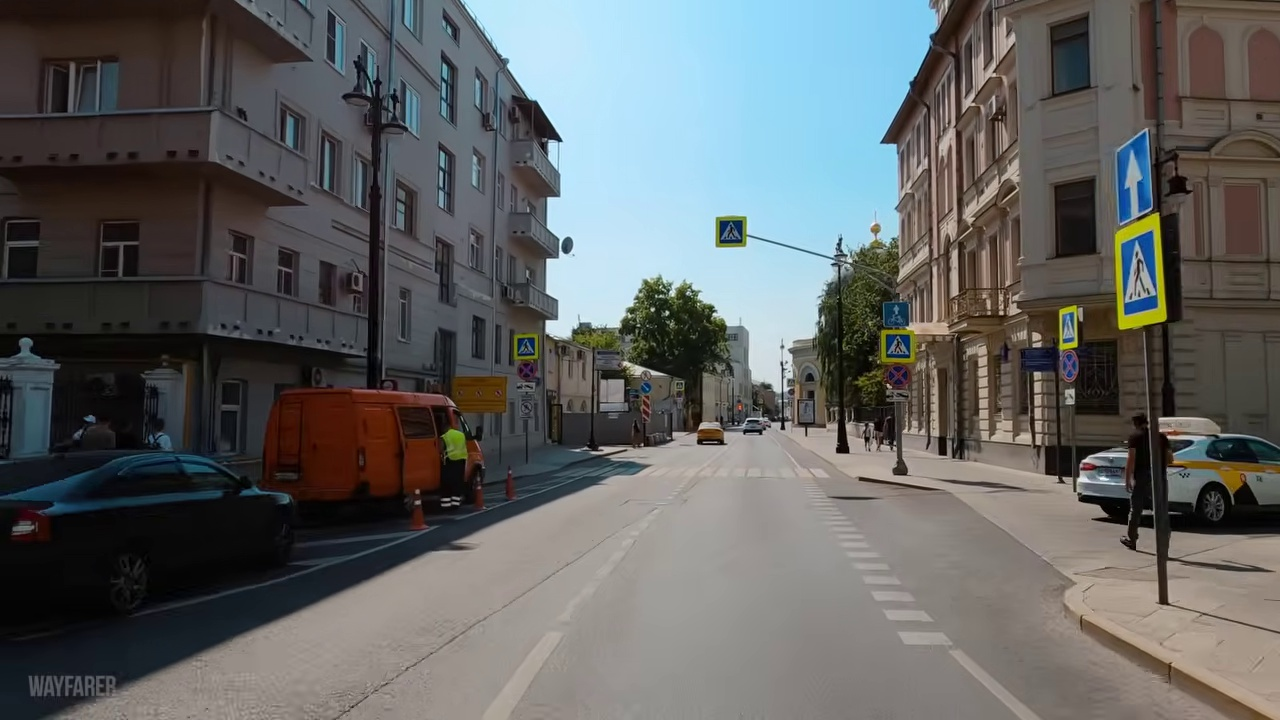apagada: (714, 215, 751, 252)
